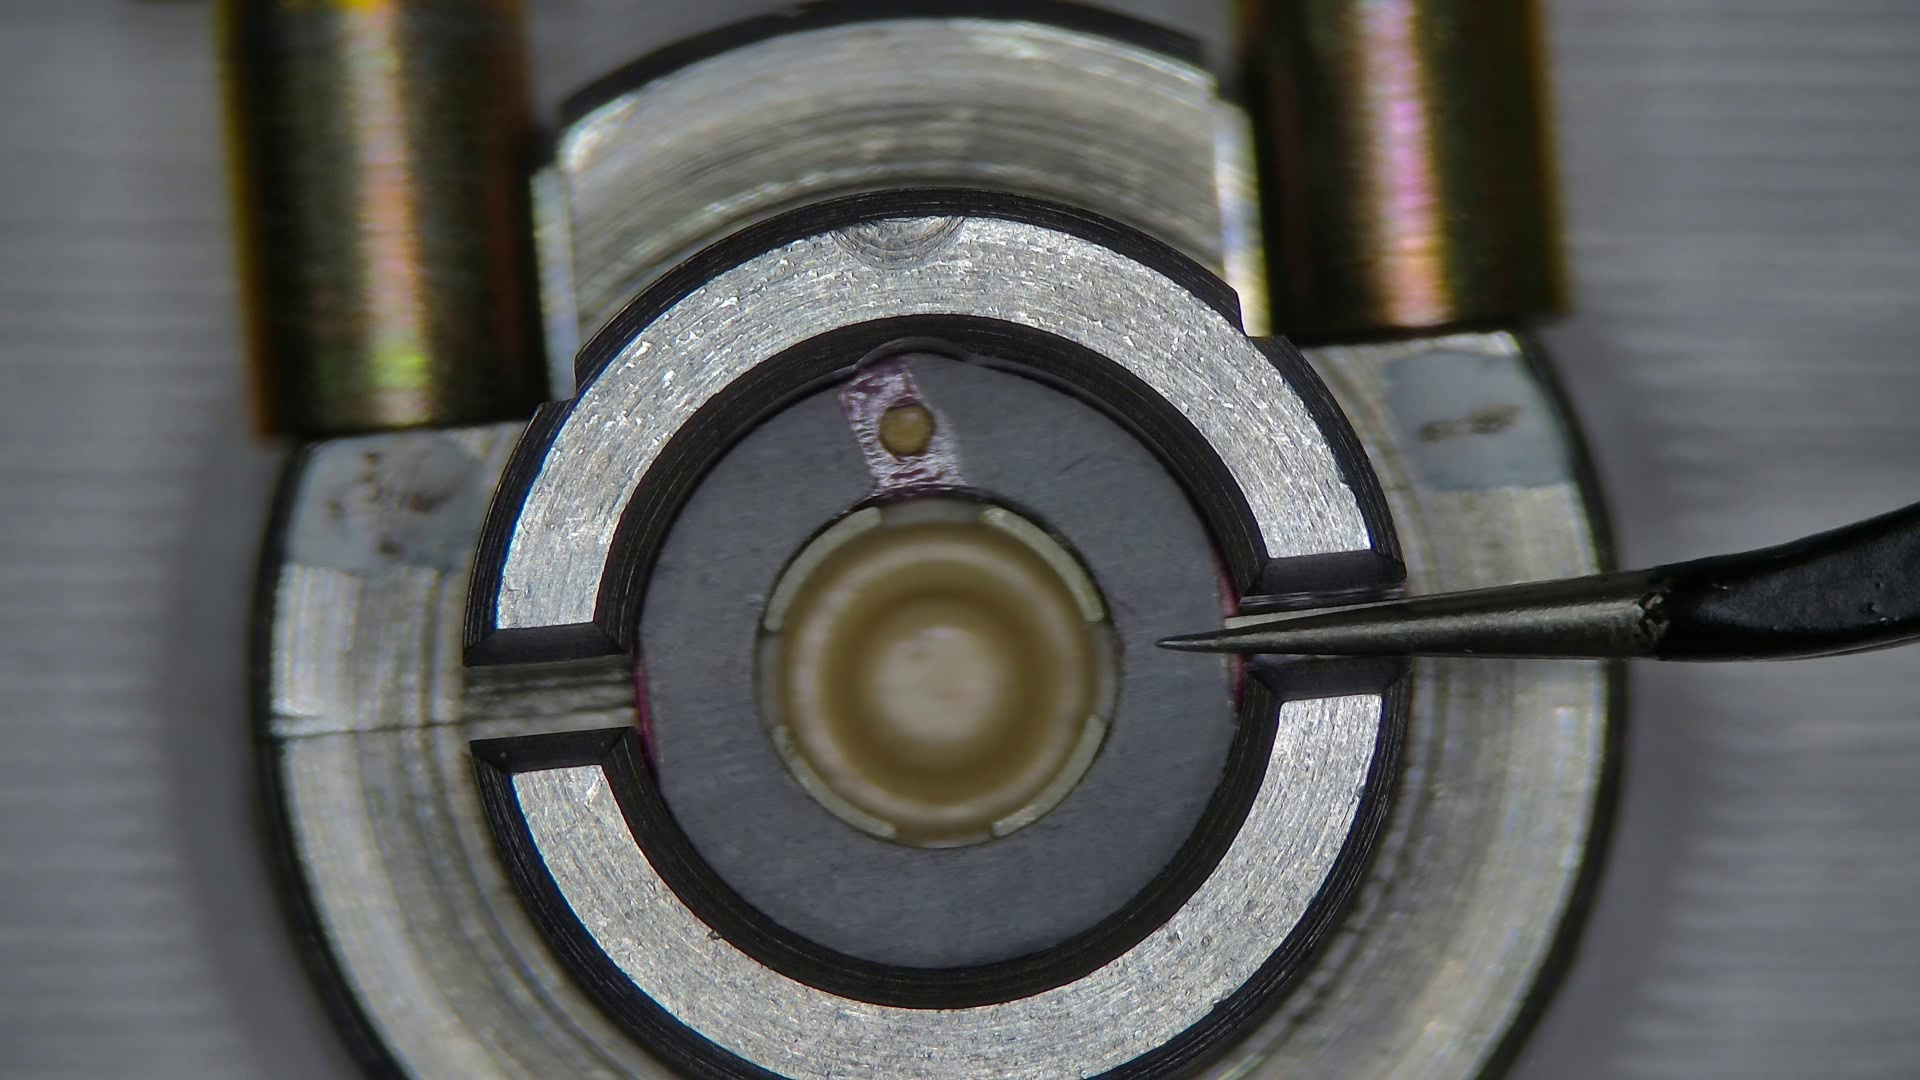YellowOring: (642, 355, 1229, 971)
